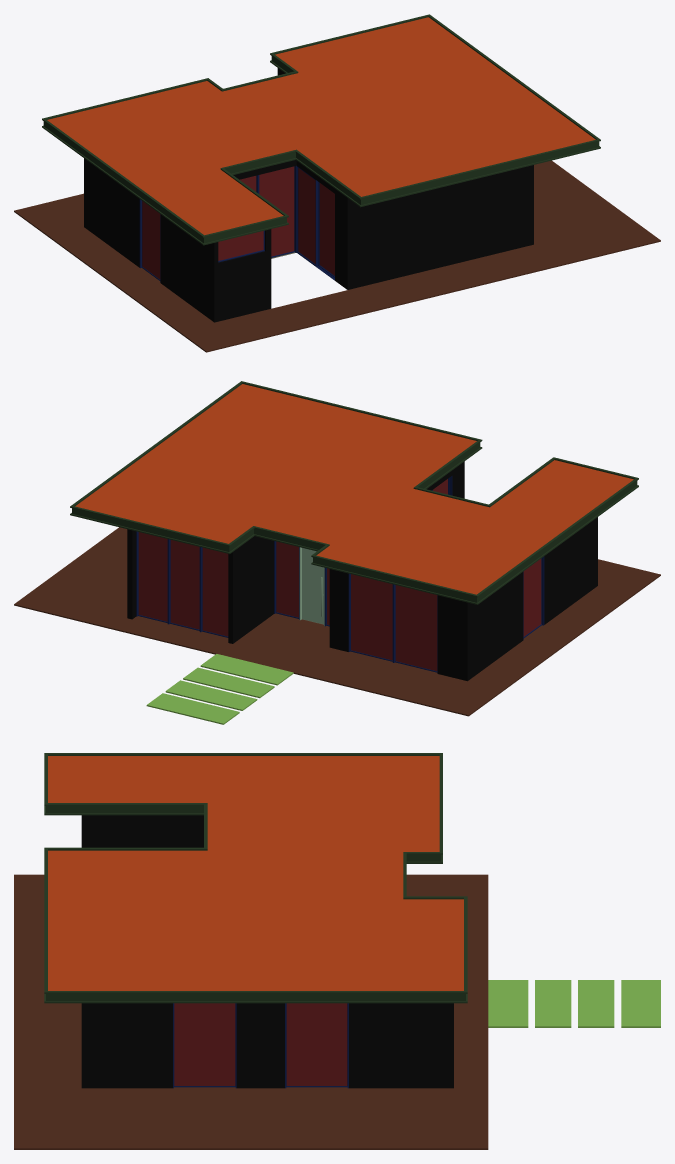
Rendered from House_V1.fbx.
The picture shows the model from 3 angles, top to bottom: view 1: azimuth 30°, elevation 25°; view 2: azimuth 150°, elevation 25°; view 3: azimuth 270°, elevation 25°; orthographic projection. The views are drawn at different scales.
Parts seen in each view (by area): view 1: Roof, Wall_Exterior, Floor_Exterior, Border, Window_Glass, Window_Frame; view 2: Roof, Floor_Exterior, Wall_Exterior, Window_Glass, Border, Floor_Steps, Window_Frame, Door_Wing; view 3: Roof, Floor_Exterior, Wall_Exterior, Border, Window_Glass, Floor_Steps, Window_Frame.
Part boxes in pixels (<box>): Roof: <box>47,17,595,235</box>; Wall_Exterior: <box>84,68,533,322</box>; Floor_Exterior: <box>14,160,660,352</box>; Border: <box>42,14,600,245</box>; Window_Glass: <box>142,166,334,279</box>; Window_Frame: <box>139,165,334,282</box>; Roof: <box>75,384,633,594</box>; Floor_Exterior: <box>14,527,660,716</box>; Wall_Exterior: <box>127,461,597,681</box>; Window_Glass: <box>138,479,541,671</box>; Border: <box>70,381,638,604</box>; Floor_Steps: <box>146,654,293,724</box>; Window_Frame: <box>136,476,544,673</box>; Door_Wing: <box>302,548,323,624</box>; Roof: <box>48,756,463,990</box>; Floor_Exterior: <box>14,874,488,1149</box>; Wall_Exterior: <box>81,815,453,1088</box>; Border: <box>44,753,467,1003</box>; Window_Glass: <box>174,1003,347,1085</box>; Floor_Steps: <box>488,980,660,1027</box>; Window_Frame: <box>173,1003,348,1088</box>.
Bounding box in the file's own units: 754 × 165 × 753.
